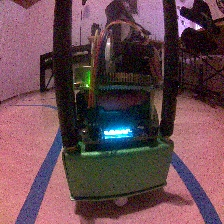rob: (60, 38, 174, 207)
